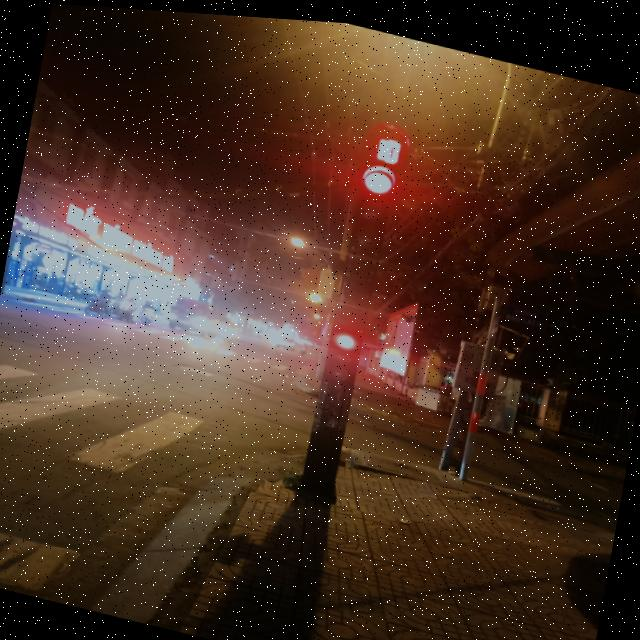Red: (347, 149, 401, 261), (318, 314, 365, 387)
